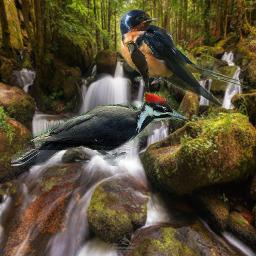Cuckoo: (124, 41, 150, 95)
Swallow: (118, 7, 248, 106)
Woodpecker: (11, 92, 187, 166)
